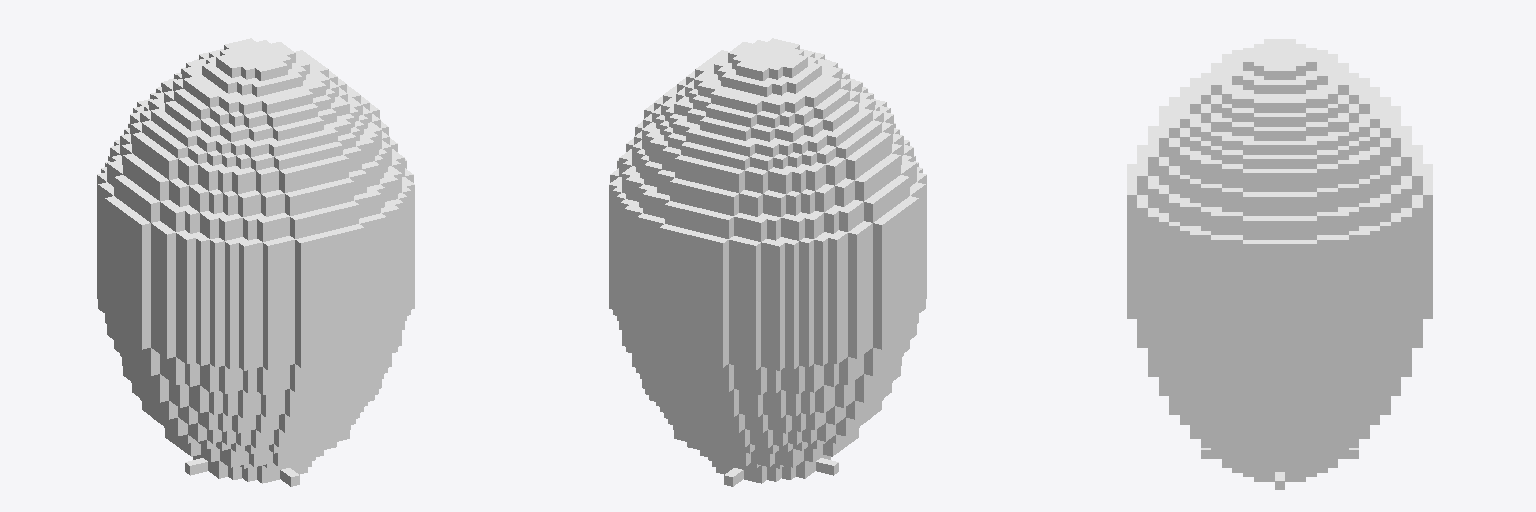
The model's file is nukeHead.obj.
The picture shows the model from 3 angles: view 1: azimuth 30°, elevation 25°; view 2: azimuth 150°, elevation 25°; view 3: azimuth 270°, elevation 25°; orthographic projection.
Visible parts, largest first — view 1: nukeHead; view 2: nukeHead; view 3: nukeHead.
Part boxes in pixels (x1,y1,x2,y2): nukeHead: (97,38,414,486); nukeHead: (609,38,926,486); nukeHead: (1127,39,1432,489).
Bounding box in the file's own units: 29 × 42 × 29.